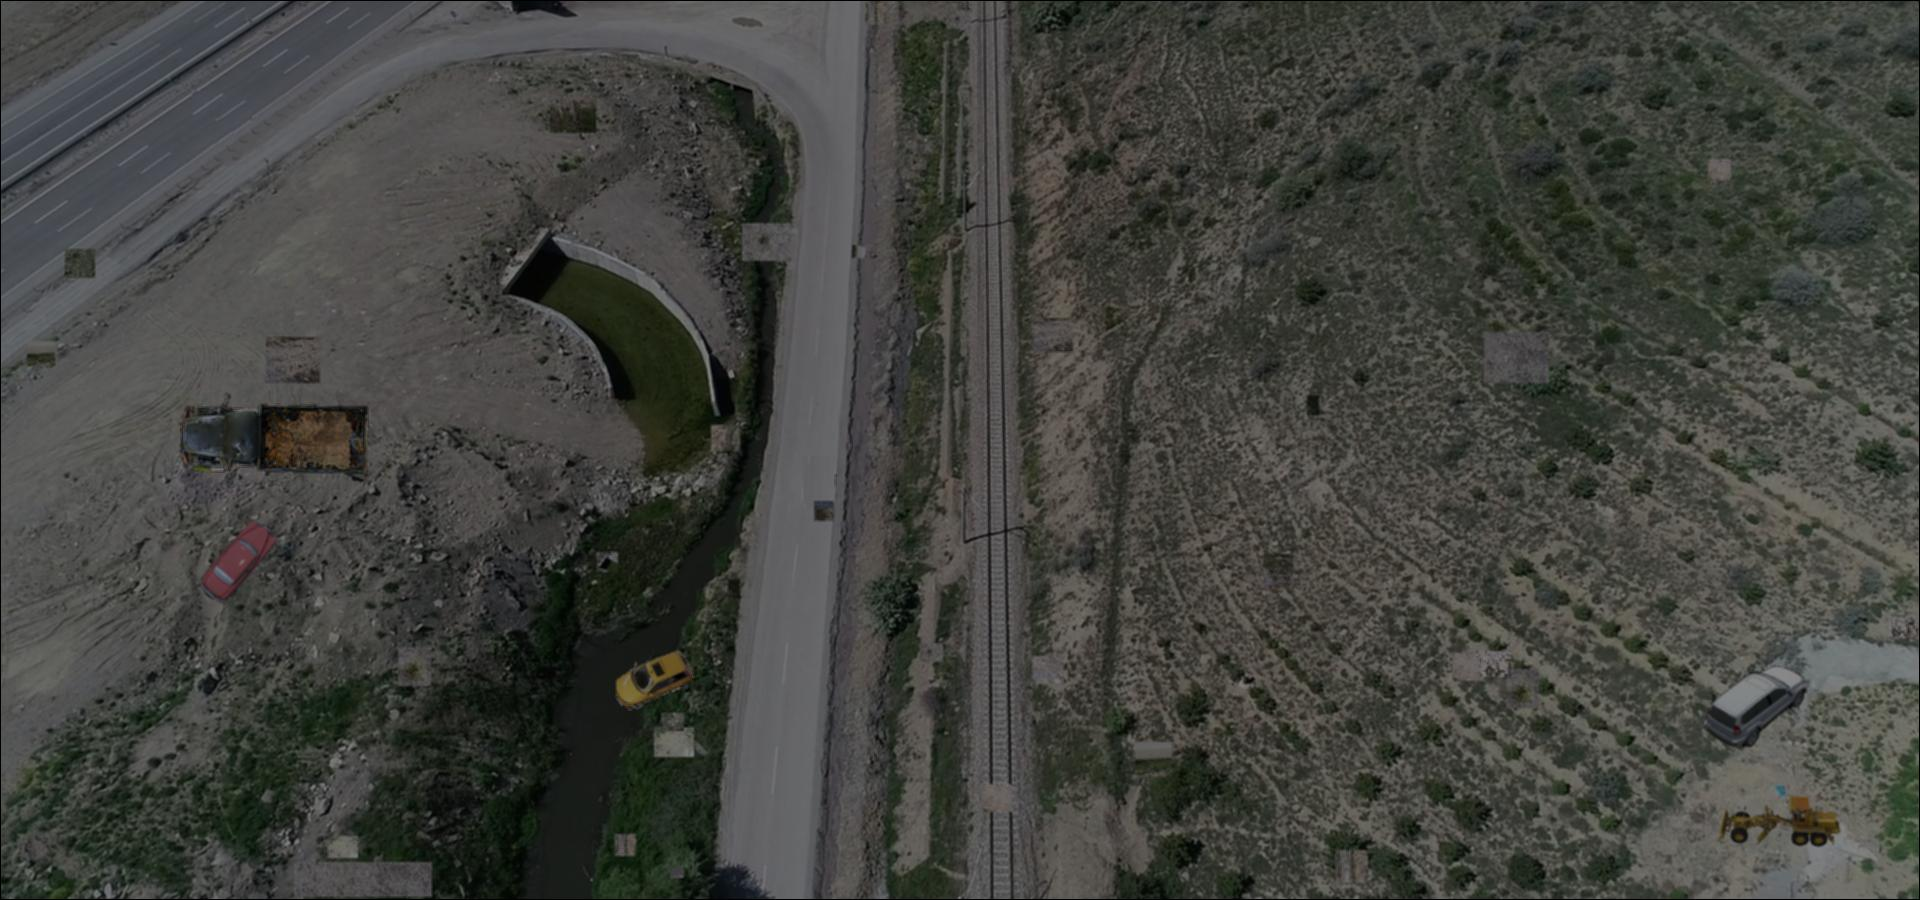arac: (178, 389, 373, 486), (1702, 658, 1810, 749), (1719, 792, 1840, 851), (200, 519, 278, 604), (616, 648, 696, 711)
